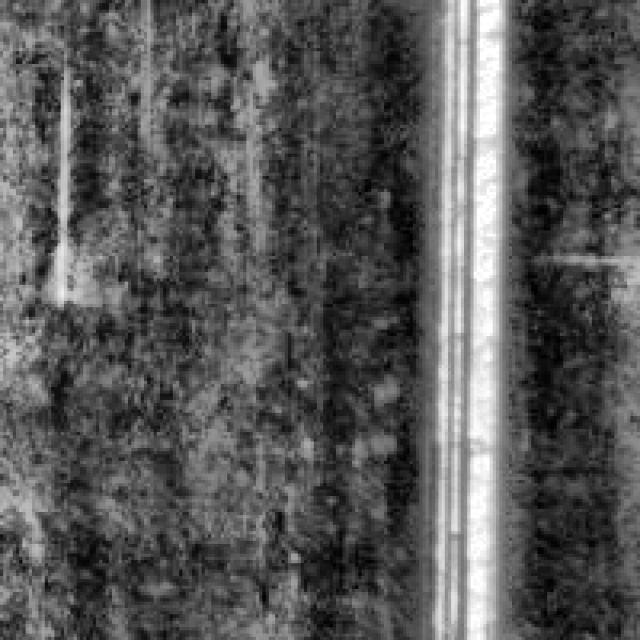Inclusion: (409, 0, 508, 634)
